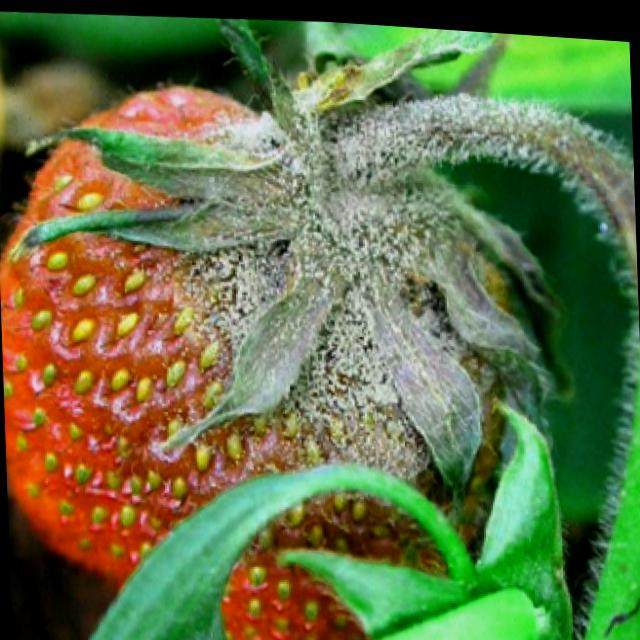Gray Mold: (0, 15, 639, 637)
